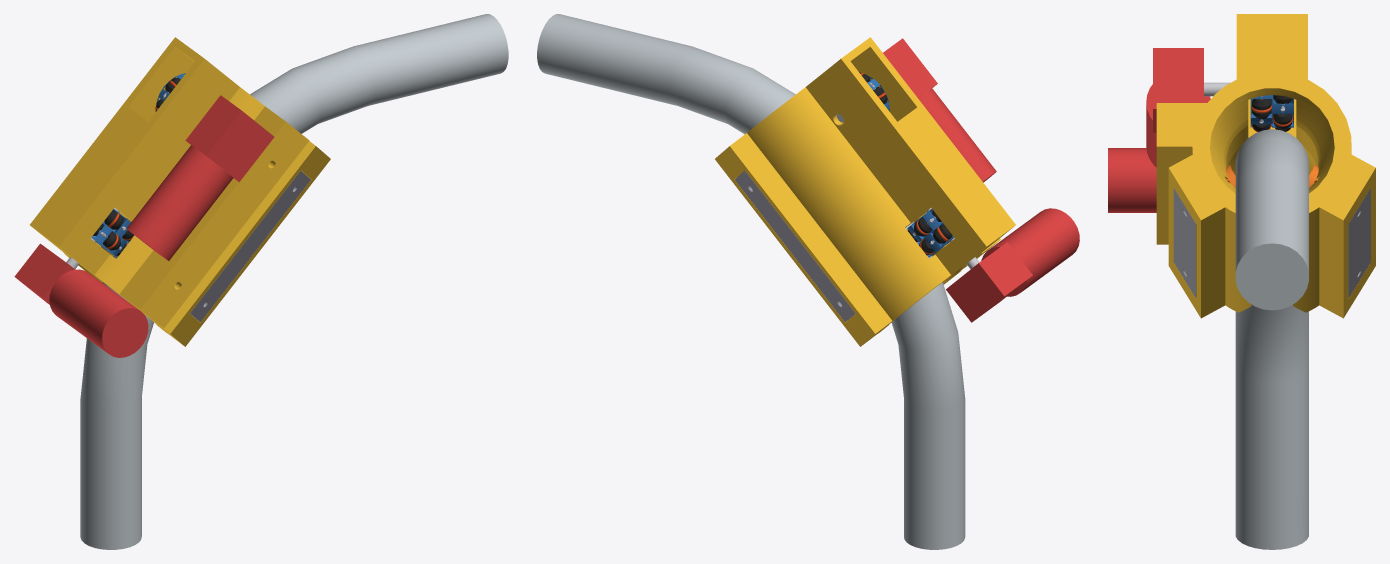
Rendered from cart-wheel-corner-v2.glb.
The picture shows the model from 3 angles, left to right: view 1: azimuth 30°, elevation 25°; view 2: azimuth 150°, elevation 25°; view 3: azimuth 270°, elevation 25°; orthographic projection. The views are drawn at different scales.
Visible parts, largest first — view 1: hand_sleeve, track_pipe, drive_motor, roll_motor, drive_gearbox, m60_cap, roll_gearbox, roll_wheel_rollers; view 2: hand_sleeve, track_pipe, roll_motor, roll_gearbox, p60_cap, drive_motor, drive_gearbox, roll_wheel_rollers; view 3: hand_sleeve, track_pipe, roll_motor, drive_gearbox, m60_cap, p60_cap, drive_wheel_rollers, drive_motor, drive_wheel_hub.
Boxes of the visible parts, bbox=[...] form: hand_sleeve: bbox=[30, 37, 330, 346]; track_pipe: bbox=[80, 14, 508, 549]; drive_motor: bbox=[126, 145, 233, 260]; roll_motor: bbox=[49, 269, 148, 357]; drive_gearbox: bbox=[185, 95, 274, 182]; m60_cap: bbox=[190, 171, 310, 321]; roll_gearbox: bbox=[14, 243, 74, 304]; roll_wheel_rollers: bbox=[93, 211, 133, 255]; hand_sleeve: bbox=[715, 37, 1015, 346]; track_pipe: bbox=[537, 14, 965, 549]; roll_motor: bbox=[981, 208, 1079, 296]; roll_gearbox: bbox=[946, 242, 1032, 322]; p60_cap: bbox=[734, 171, 855, 322]; drive_motor: bbox=[918, 88, 996, 182]; drive_gearbox: bbox=[883, 38, 937, 97]; roll_wheel_rollers: bbox=[908, 210, 952, 255]; hand_sleeve: bbox=[1156, 14, 1375, 318]; track_pipe: bbox=[1235, 129, 1308, 549]; roll_motor: bbox=[1108, 148, 1156, 212]; drive_gearbox: bbox=[1153, 48, 1203, 132]; m60_cap: bbox=[1173, 188, 1196, 297]; p60_cap: bbox=[1348, 188, 1370, 298]; drive_wheel_rollers: bbox=[1252, 95, 1292, 131]; drive_motor: bbox=[1146, 84, 1210, 167]; drive_wheel_hub: bbox=[1250, 95, 1293, 127].
Bounding box in the file's own units: 280 × 270 × 116.
